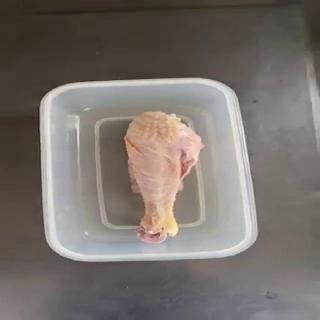Ayam: (124, 112, 206, 244)
